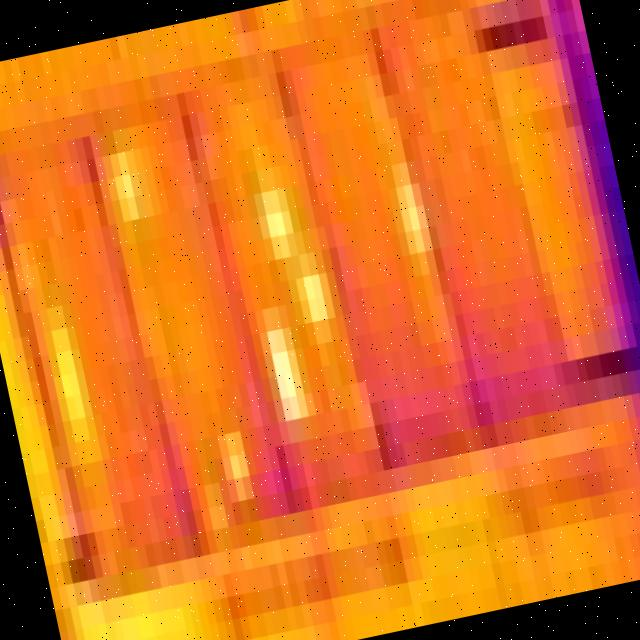Hotspot: (38, 304, 102, 466), (254, 304, 308, 422), (396, 182, 438, 276), (220, 408, 253, 502), (253, 189, 290, 261), (102, 151, 138, 223), (296, 274, 328, 323), (204, 482, 228, 530)
